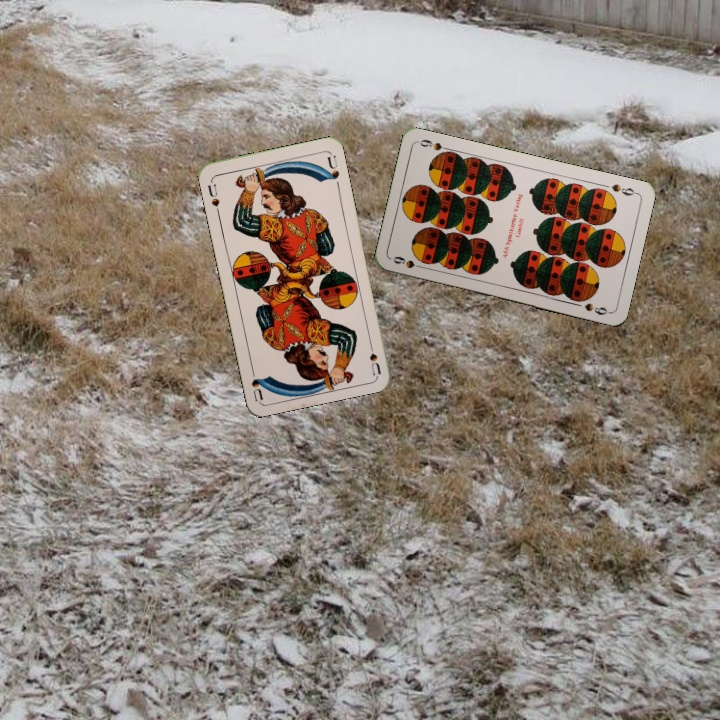S9: (389, 252, 429, 271), (607, 180, 640, 198)
SU: (365, 336, 383, 376), (203, 180, 222, 217)
